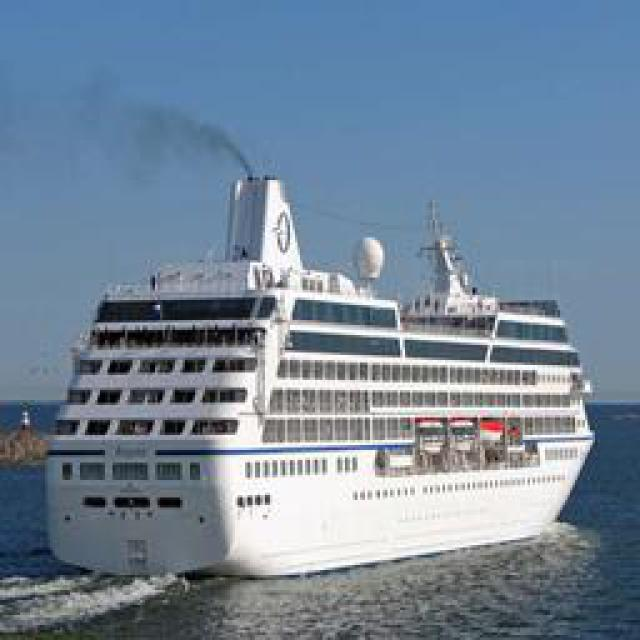Ship: (36, 171, 599, 581)
